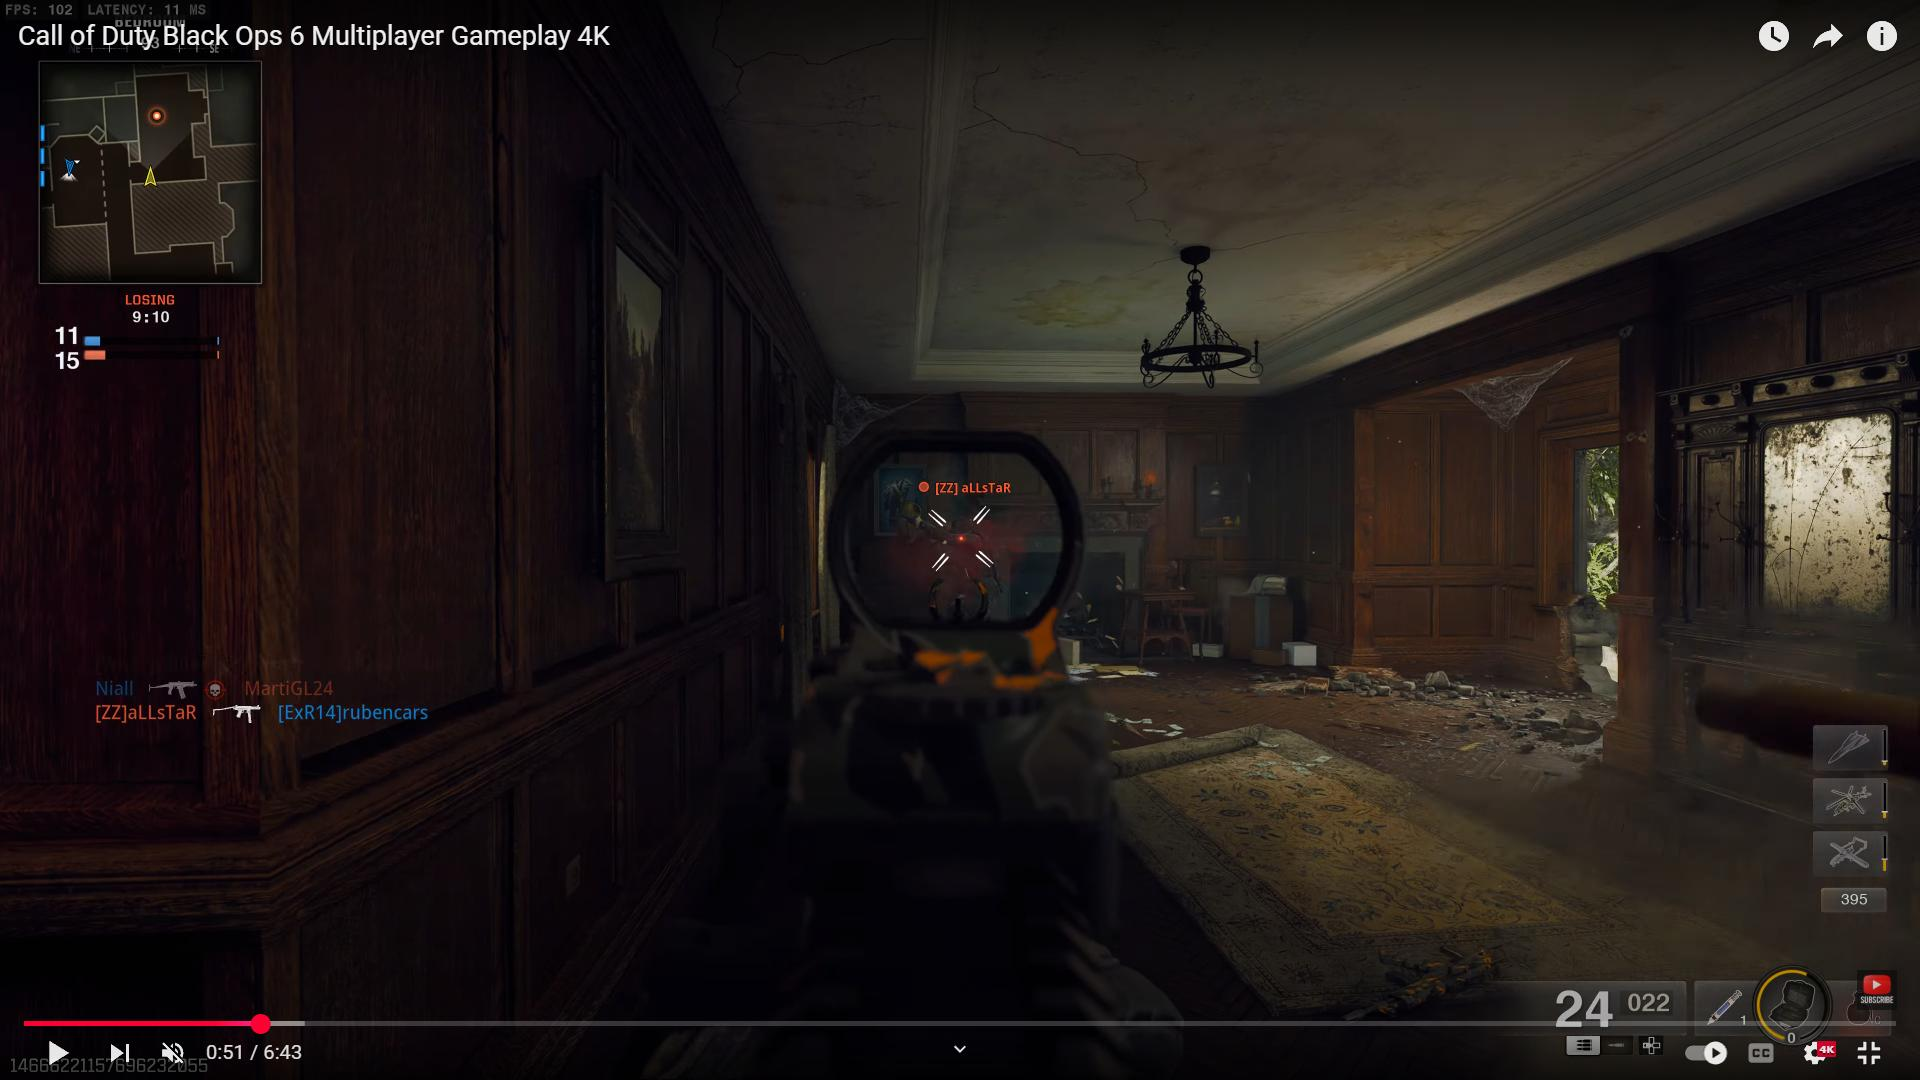Enemy: (919, 471, 1015, 605)
